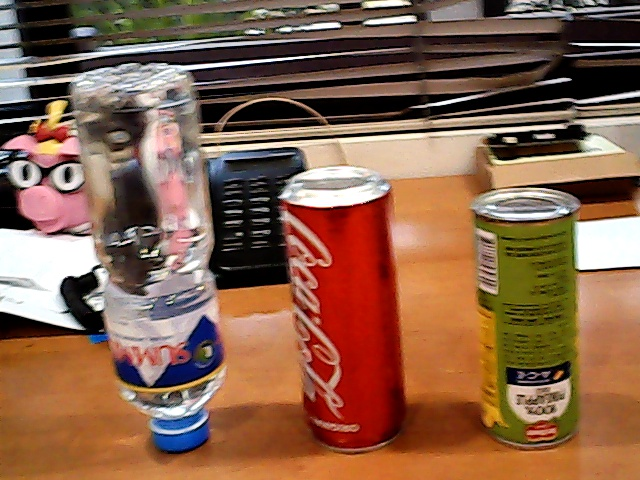Cola: (266, 157, 422, 463)
Pine Juice: (462, 173, 596, 456)
Summit Water: (62, 57, 241, 458)
